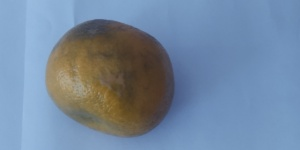BAD: (43, 18, 175, 136)
